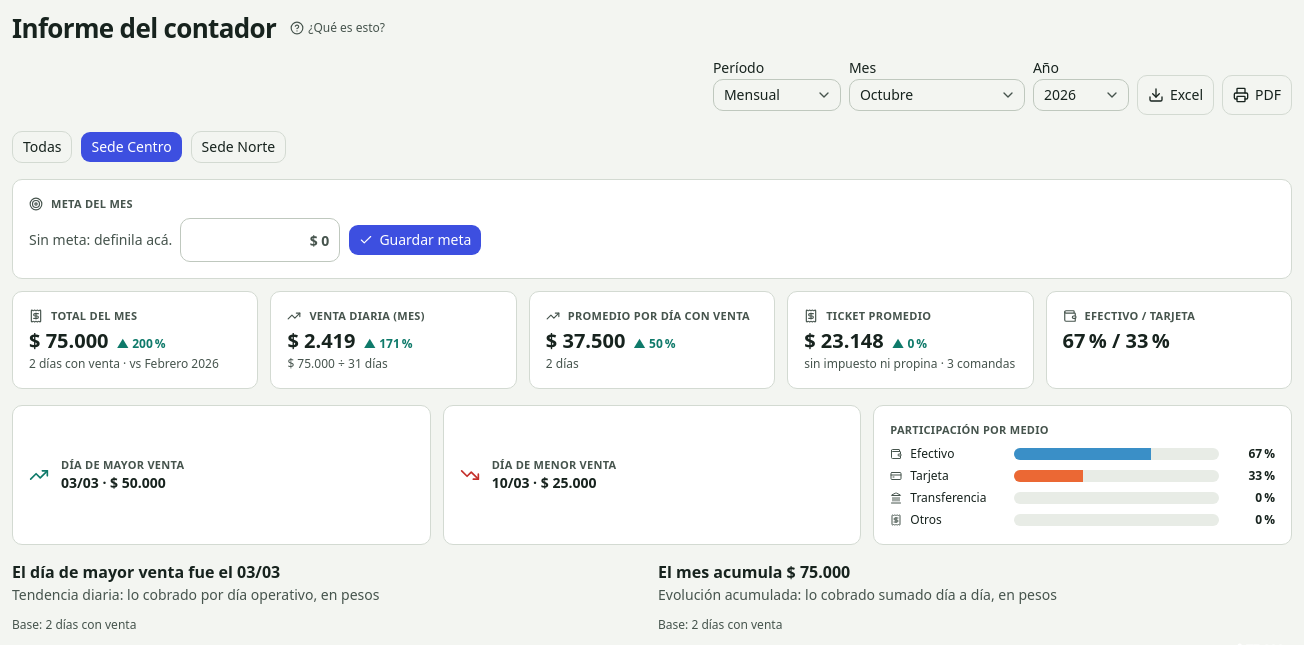
Scenario: la meta del mes › se define en el lugar: optimista, y la barra la trae el servidor
The image size is (1304, 645).
Expected: the text "Sin meta: definila acá." is shown, [29, 230, 172, 250]
Type "100000" into the field named "Meta del mes" at (260, 240), box [180, 218, 340, 262]
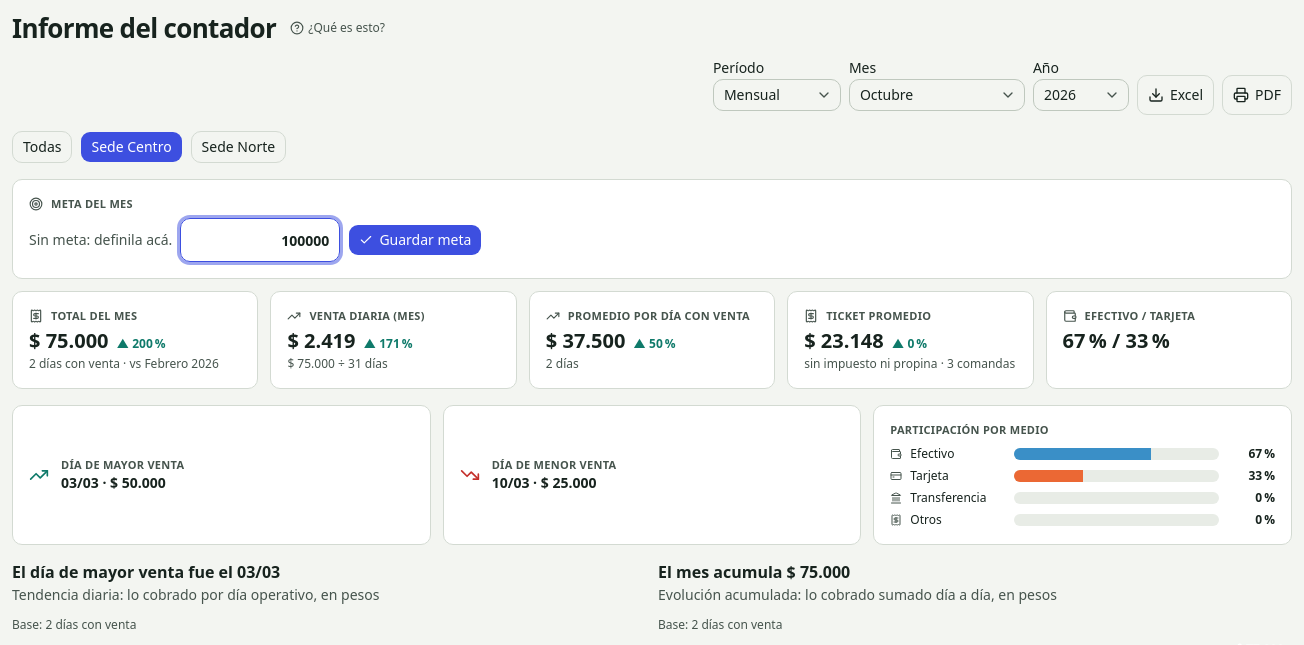
Click the button "Guardar meta" at (415, 240), box [348, 224, 482, 256]
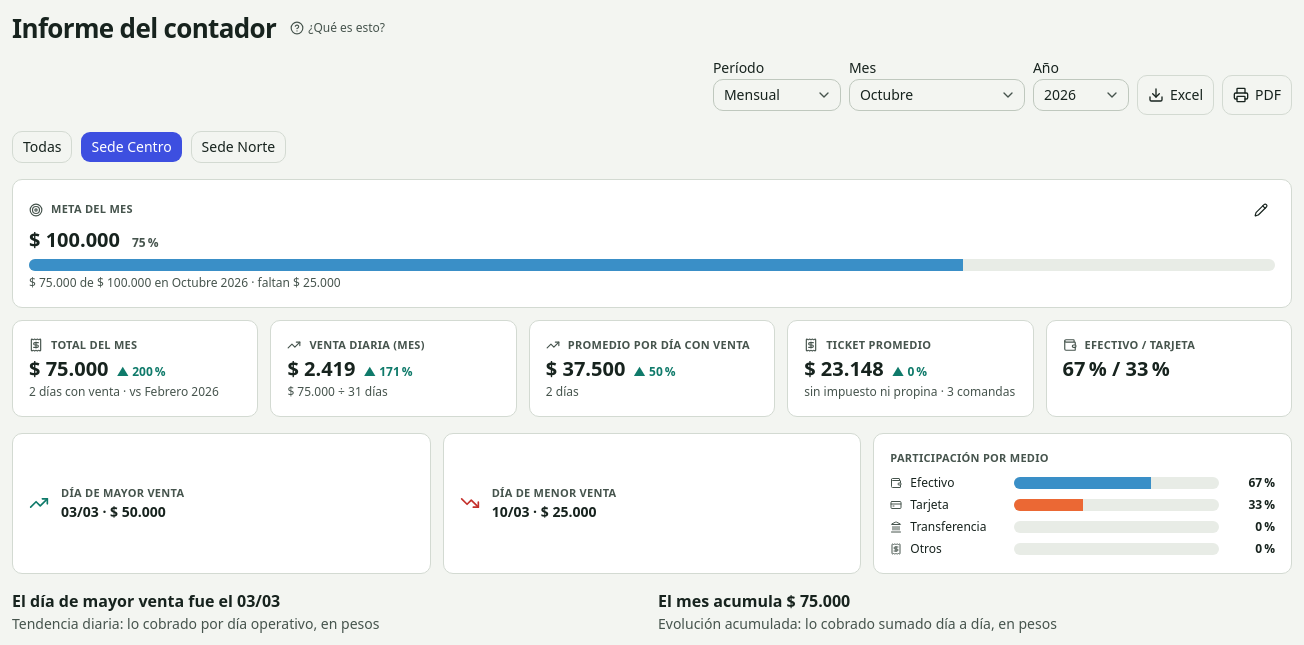
Now the text "$ 100.000" is shown, box [29, 230, 120, 250]
Now the text "75 %" is shown, box [132, 234, 158, 250]
Now the text "$ 75.000 de $ 100.000 en Octubre 2026 · faltan $ 25.000" is shown, box [29, 274, 341, 290]
